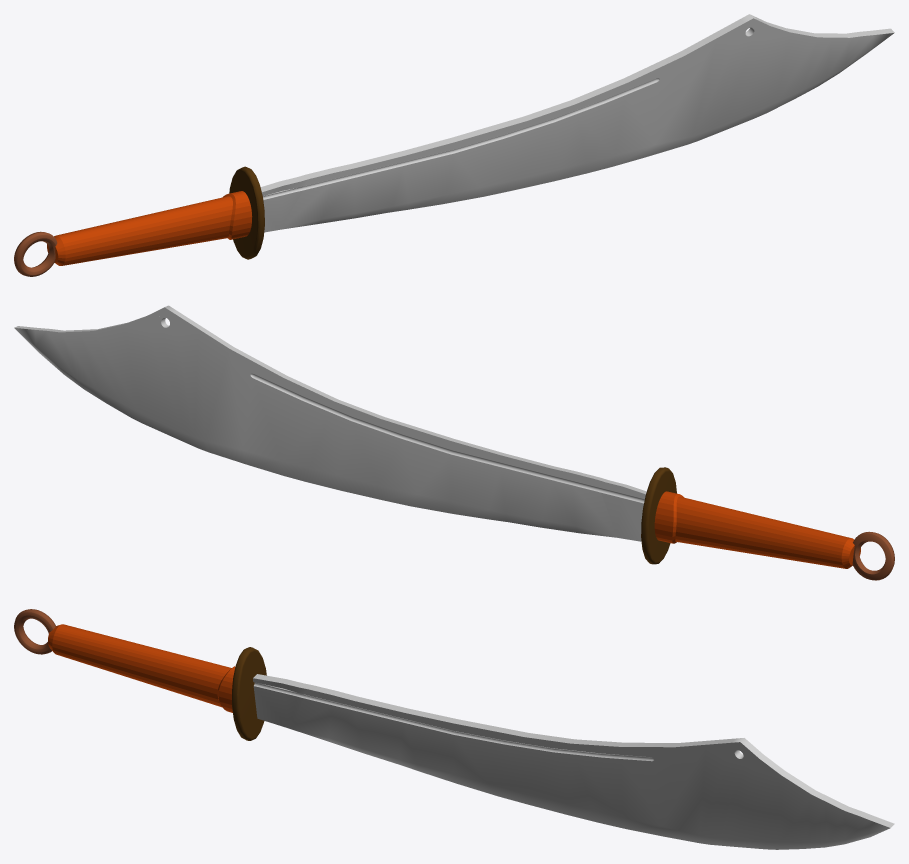
The model's file is dao.fbx.
3 renders of one model, top to bottom at view 1: azimuth 30°, elevation 25°; view 2: azimuth 150°, elevation 25°; view 3: azimuth 330°, elevation 25°, orthographic.
Parts seen in each view (by area): view 1: polySurface4; view 2: polySurface4; view 3: polySurface4.
Boxes of the visible parts, <box> form: polySurface4: <box>14,14,894,276</box>; polySurface4: <box>14,305,894,580</box>; polySurface4: <box>14,609,894,849</box>.
Size of the model in its own units: 45.18 by 6.39 by 2.74.
